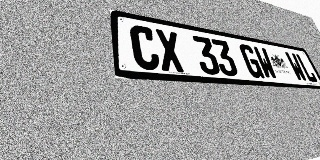3: (192, 35, 222, 75), (211, 38, 239, 77)
C: (129, 24, 161, 71)
G: (238, 43, 265, 79)
L: (295, 53, 319, 83)
W: (252, 46, 279, 80), (284, 52, 309, 82)
X: (154, 29, 186, 73)
